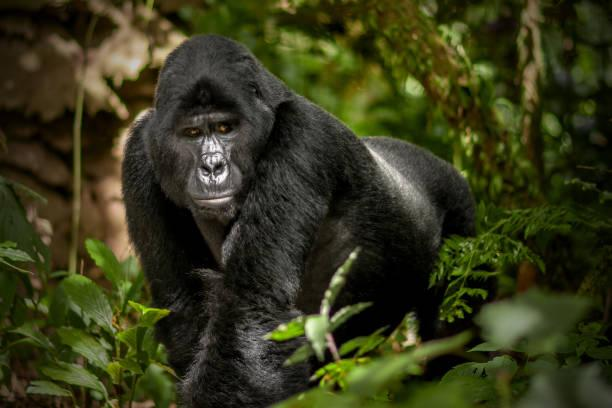goriile_montagne: (102, 12, 487, 394)
